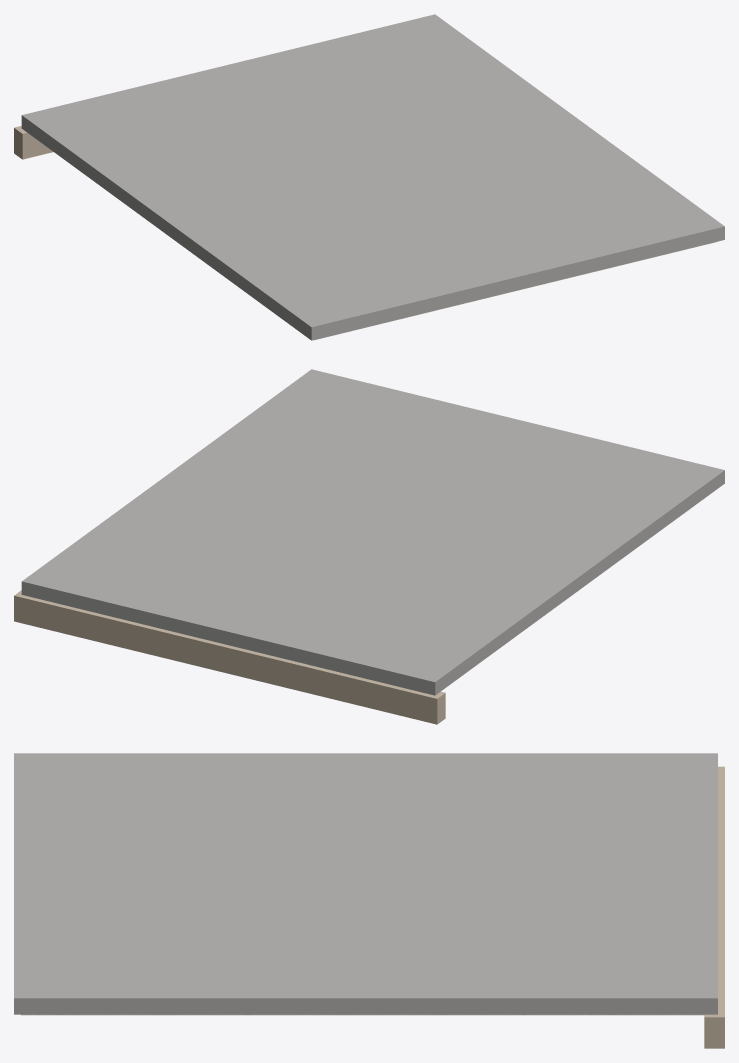
File: porch_roof.glb
3 views of the same model, one above another, from view 1: azimuth 30°, elevation 25°; view 2: azimuth 150°, elevation 25°; view 3: azimuth 270°, elevation 25° (orthographic). The views are drawn at different scales.
Visible parts, largest first — view 1: porch_roof_roof, porch_roof_wood; view 2: porch_roof_roof, porch_roof_wood; view 3: porch_roof_roof, porch_roof_wood, porch_roof_plaster.
Boxes of the visible parts, left/top/right/bottom form: porch_roof_roof: left=21, top=14, right=724, bottom=340; porch_roof_wood: left=14, top=126, right=53, bottom=159; porch_roof_roof: left=21, top=369, right=724, bottom=695; porch_roof_wood: left=14, top=590, right=445, bottom=724; porch_roof_roof: left=14, top=753, right=717, bottom=1014; porch_roof_wood: left=704, top=766, right=724, bottom=1048; porch_roof_plaster: left=21, top=1014, right=703, bottom=1015.
Size of the model in its own units: 4.3 by 0.38 by 5.15.
3 materials, 1 textured.
